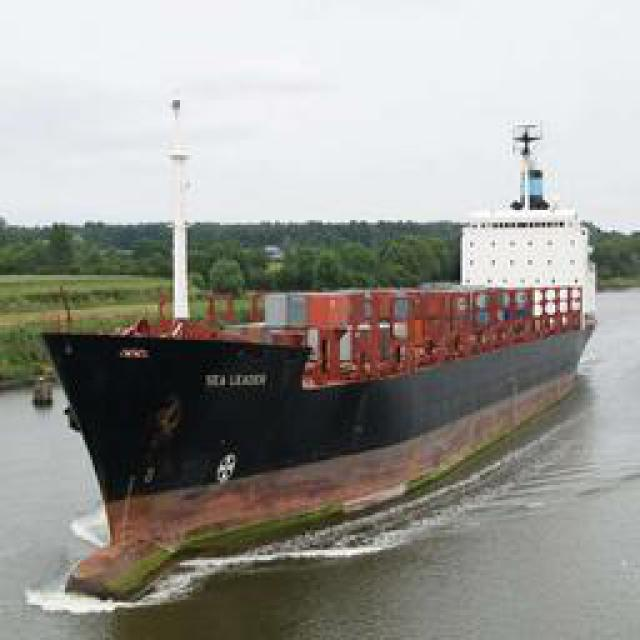Ship: (41, 145, 599, 608)
